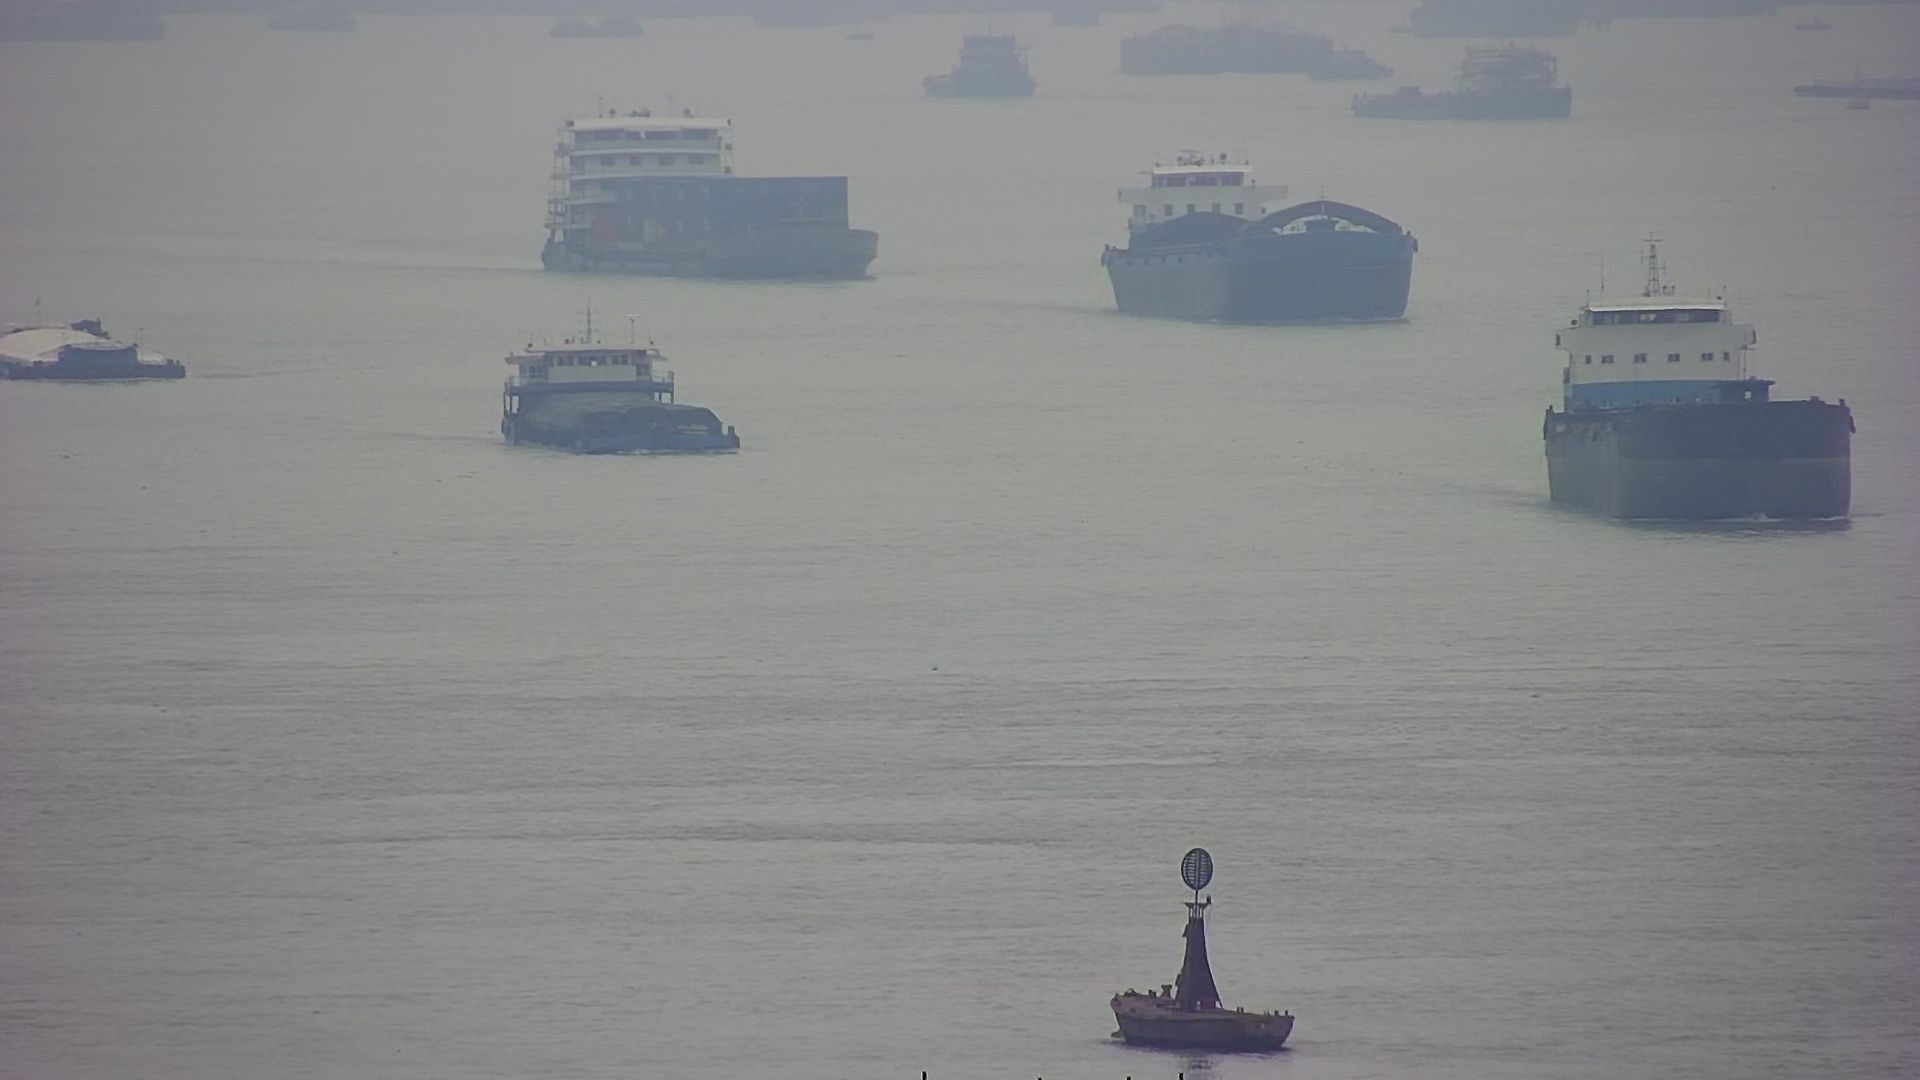boat: (1106, 837, 1284, 1056)
ship: (1549, 266, 1855, 538), (535, 102, 876, 290), (1098, 156, 1422, 332), (510, 323, 737, 455), (1, 301, 187, 386)
